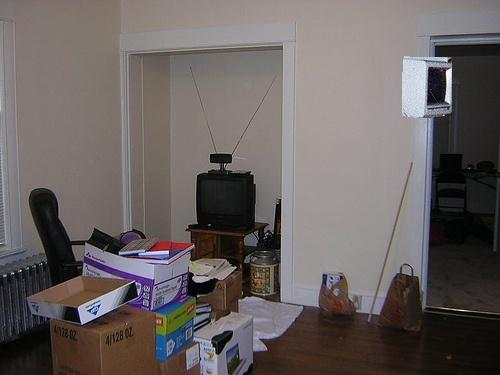tampered: (403, 57, 452, 118)
